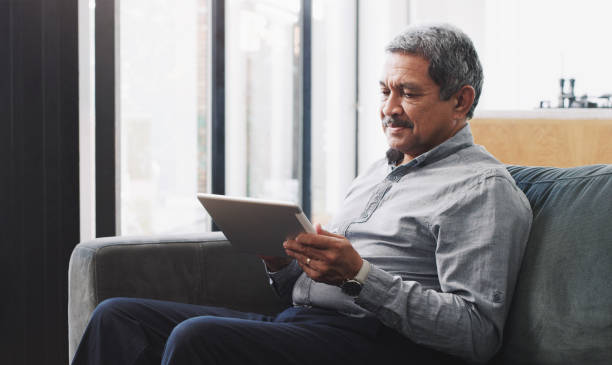without mask: (364, 51, 464, 156)
